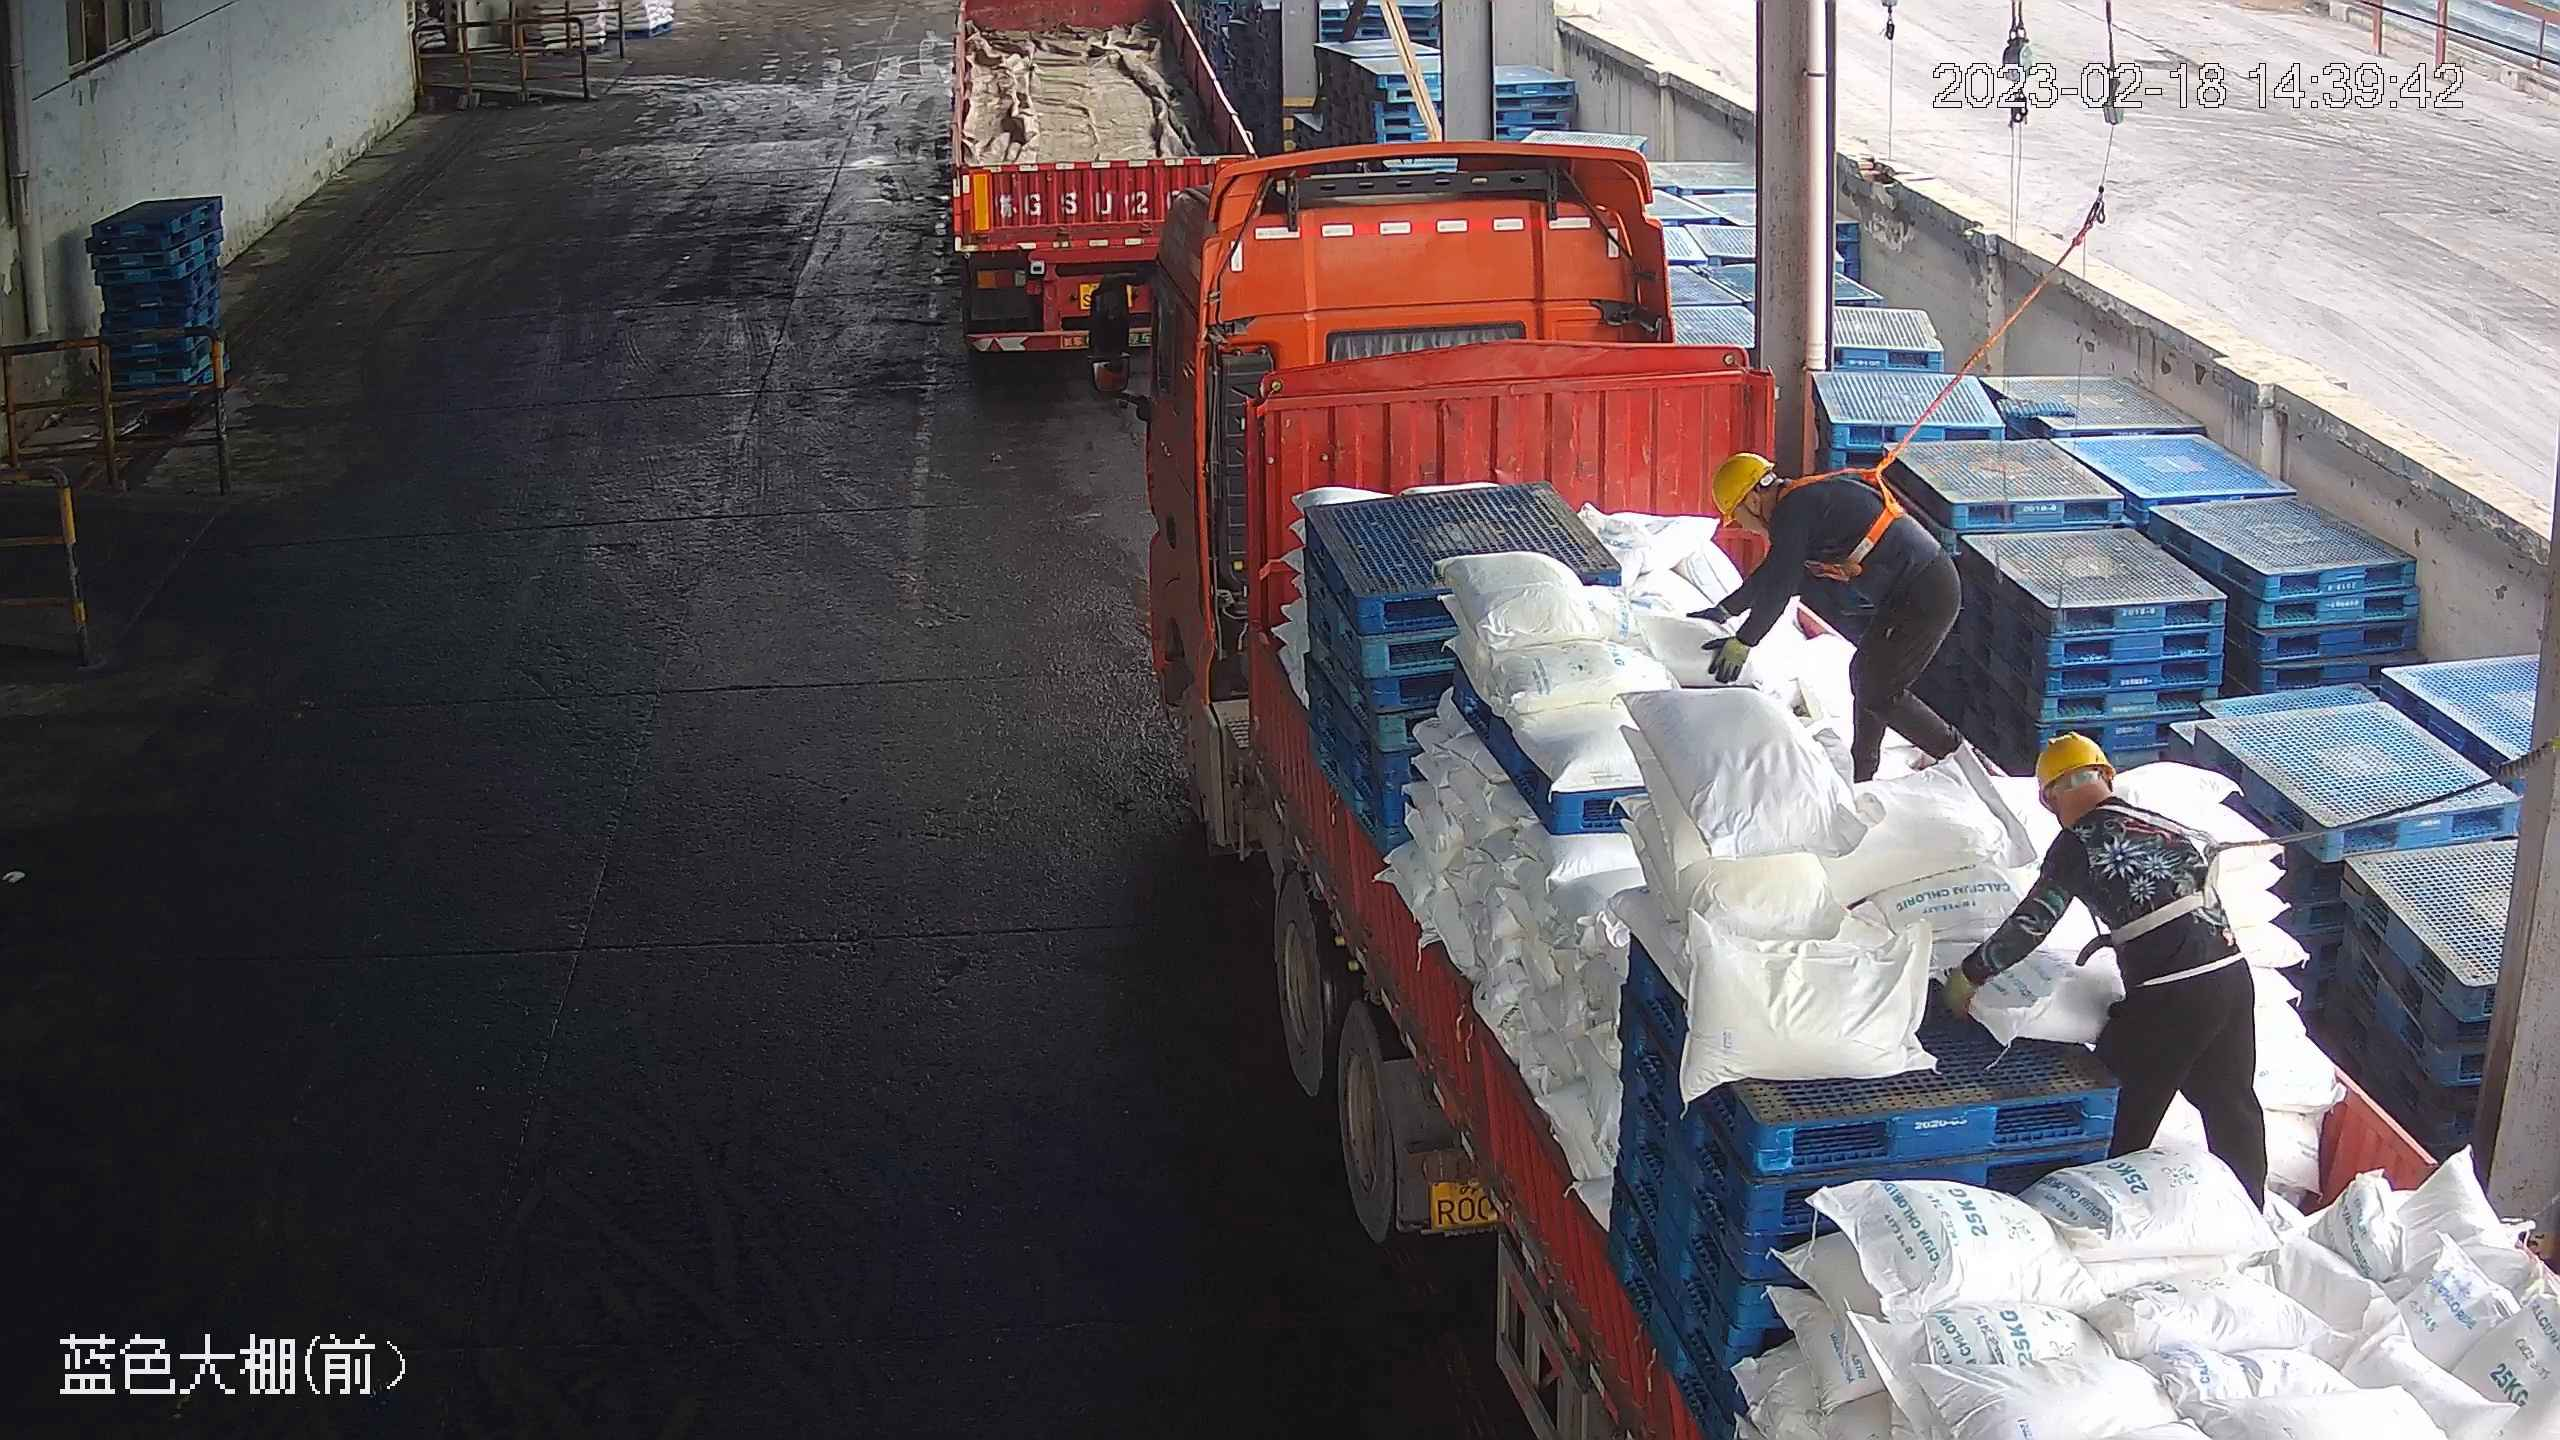belt: (2085, 807, 2242, 971), (1780, 458, 1912, 582)
head: (2030, 730, 2201, 868), (1707, 449, 1848, 572)
helmet: (2032, 729, 2116, 797), (1707, 449, 1776, 525)
people: (1935, 726, 2278, 1216), (1686, 449, 1965, 786)
truck: (1170, 158, 2550, 1438), (932, 2, 1264, 367)
